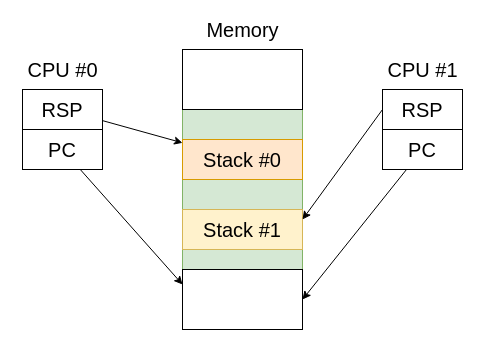
Image size: 484x347. Some labels were removed from this diagram. Here are the shapes that lost their labels. From the top down, the centre of each, then its label:
At point 242,79: "Data".
At point 242,299: "Code".
